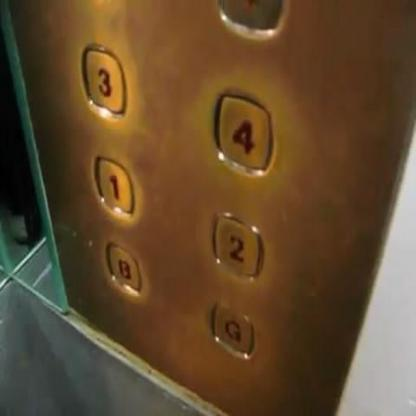1: (90, 150, 137, 219)
2: (209, 207, 263, 284)
3: (78, 42, 128, 117)
4: (210, 88, 276, 180)
B: (102, 238, 143, 298)
G: (209, 294, 256, 359)
